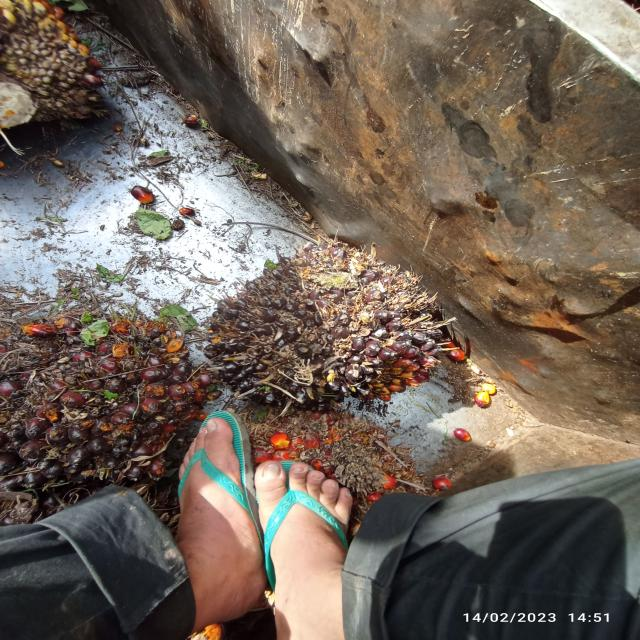fraksi 00: (190, 214, 471, 432)
fraksi 1: (0, 287, 203, 493)
